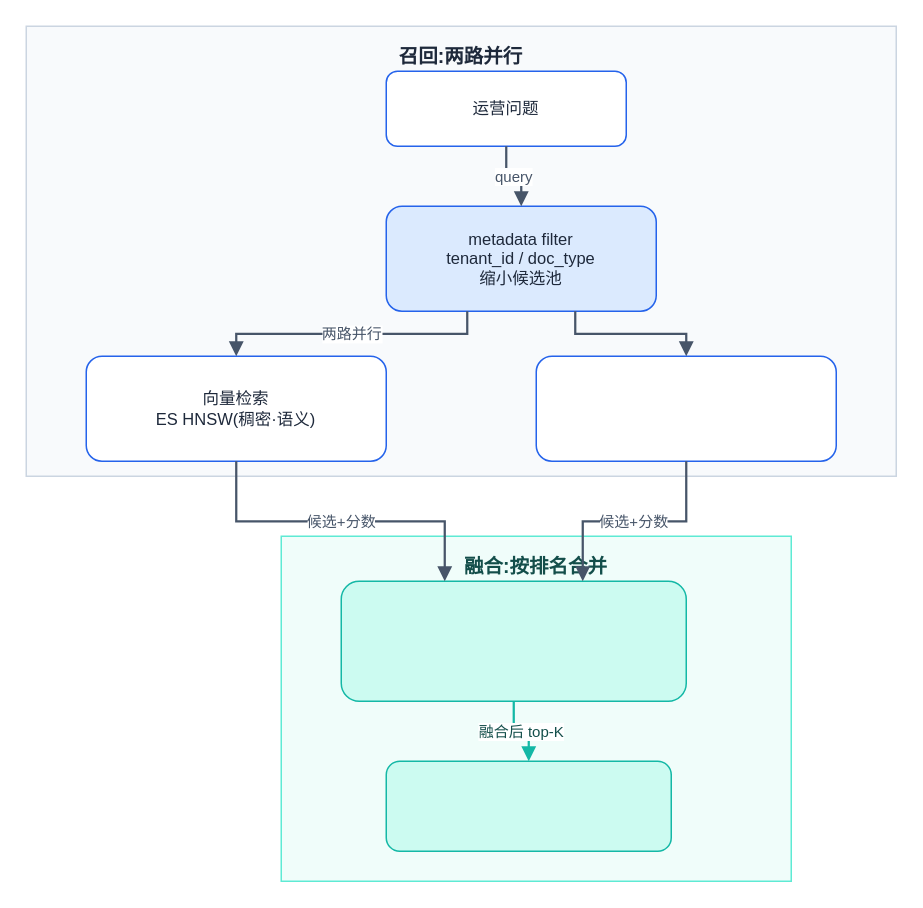
The diagram is 923 pixels wide and 908 high, and some of its shapes have lost their labels. Each missing label, with the centre of its shape:
"BM25 全文检索 (稀疏·字面)" goes at point (685, 408).
"RRF 融合 按排名,不按分数" goes at point (513, 640).
"融合后 top-K 拼进 Prompt" goes at point (528, 805).
